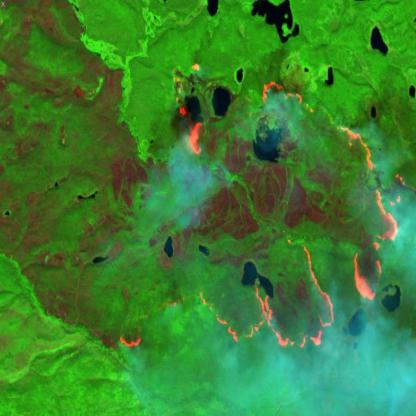fire: (116, 58, 404, 351)
